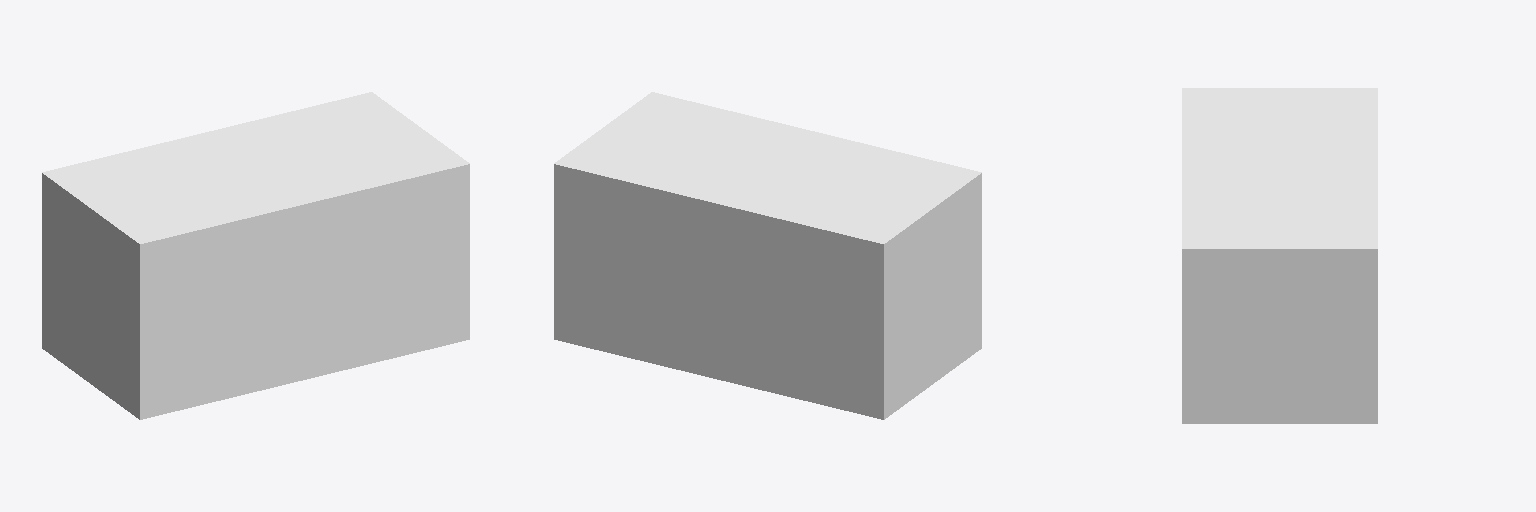
File: FloorSegment.obj
3 renders of one model, left to right at view 1: azimuth 30°, elevation 25°; view 2: azimuth 150°, elevation 25°; view 3: azimuth 270°, elevation 25°, orthographic.
Visible parts, largest first — view 1: object 1; view 2: object 1; view 3: object 1.
Part boxes in pixels (x1,y1,x2,y2): object 1: (42, 92, 469, 419); object 1: (554, 92, 981, 419); object 1: (1182, 88, 1377, 423).
Size of the model in its own units: 12.6 by 6.4 by 6.5.